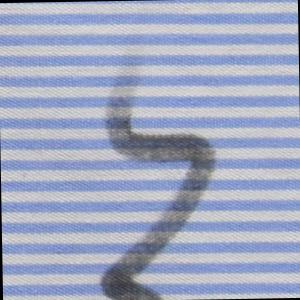Stain: (92, 48, 223, 300)
